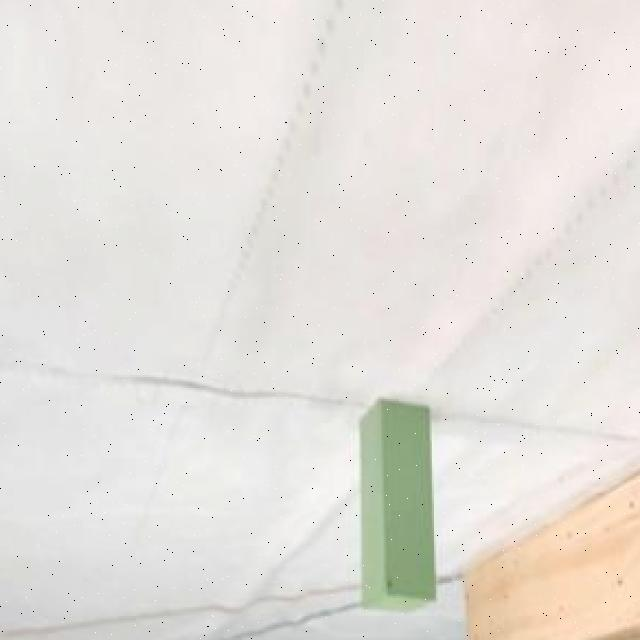greenbox: (356, 398, 437, 617)
